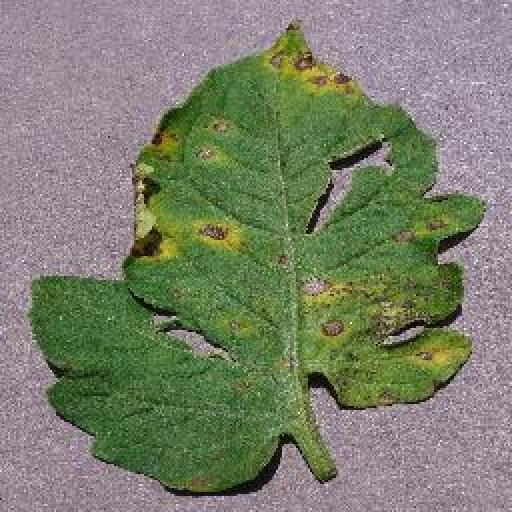Septoria: (32, 18, 490, 498)
